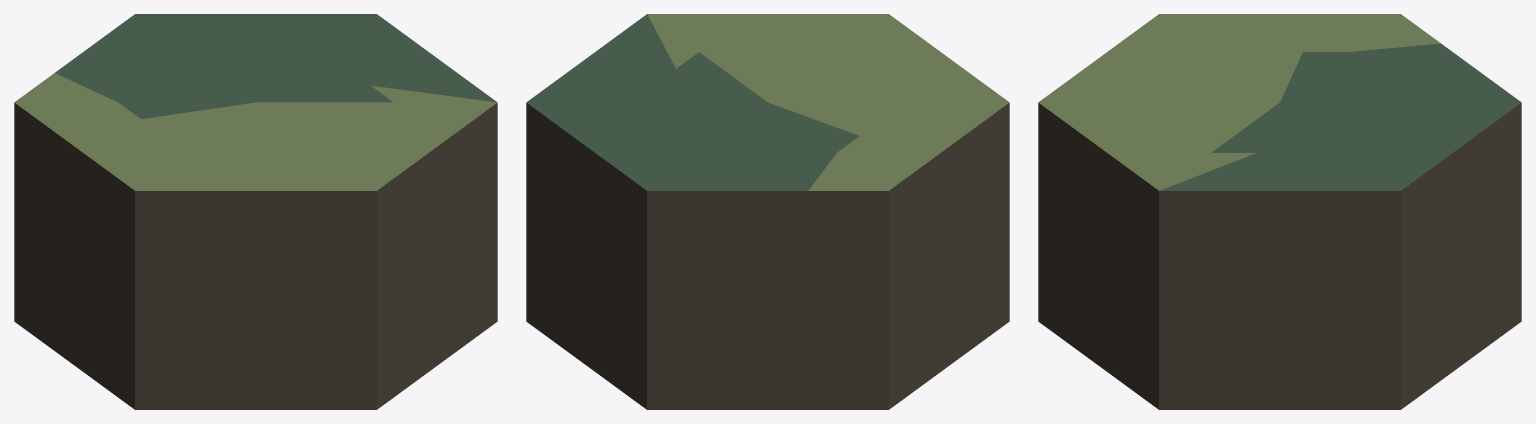
Rendered from AE_Hex_Swamp_Moss.fbx.
3 renders of one model, left to right at view 1: azimuth 30°, elevation 25°; view 2: azimuth 150°, elevation 25°; view 3: azimuth 270°, elevation 25°, orthographic.
Parts seen in each view (by area): view 1: AE_Hex_Swamp_Moss; view 2: AE_Hex_Swamp_Moss; view 3: AE_Hex_Swamp_Moss.
Part boxes in pixels (x1,y1,x2,y2): AE_Hex_Swamp_Moss: (14,14,497,409); AE_Hex_Swamp_Moss: (526,14,1009,409); AE_Hex_Swamp_Moss: (1038,14,1521,409).
Size of the model in its own units: 1.73 by 1 by 2.
